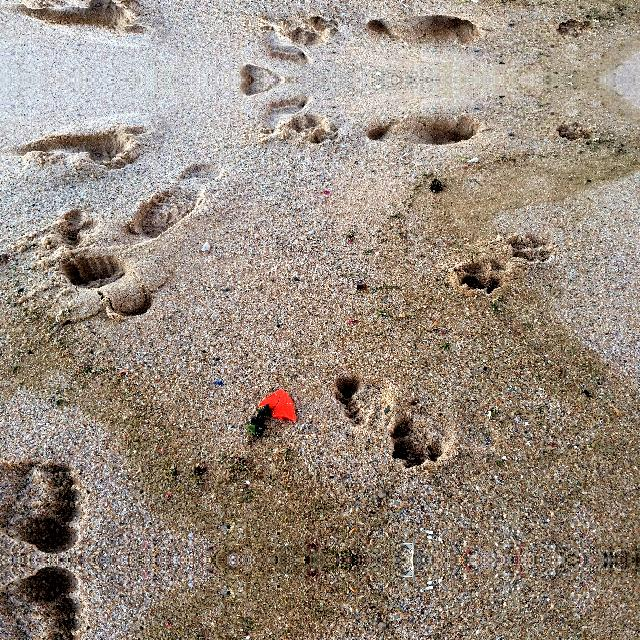Plastic: (254, 384, 300, 426)
